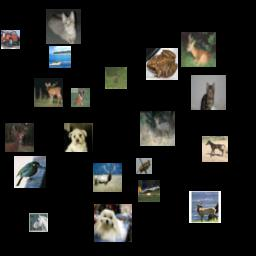airplane: (138, 180, 160, 202)
automobile: (1, 30, 20, 49)
bird: (14, 156, 46, 188), (136, 158, 152, 174)
cat: (46, 9, 81, 44), (191, 75, 226, 110)
deer: (181, 32, 216, 67), (140, 111, 175, 146), (189, 191, 221, 223), (93, 163, 122, 192), (34, 78, 63, 107), (5, 123, 34, 152), (105, 67, 127, 89)
dog: (94, 204, 132, 242), (64, 123, 93, 152), (71, 88, 90, 107)
frog: (146, 48, 178, 80)
ship: (49, 46, 71, 68)
